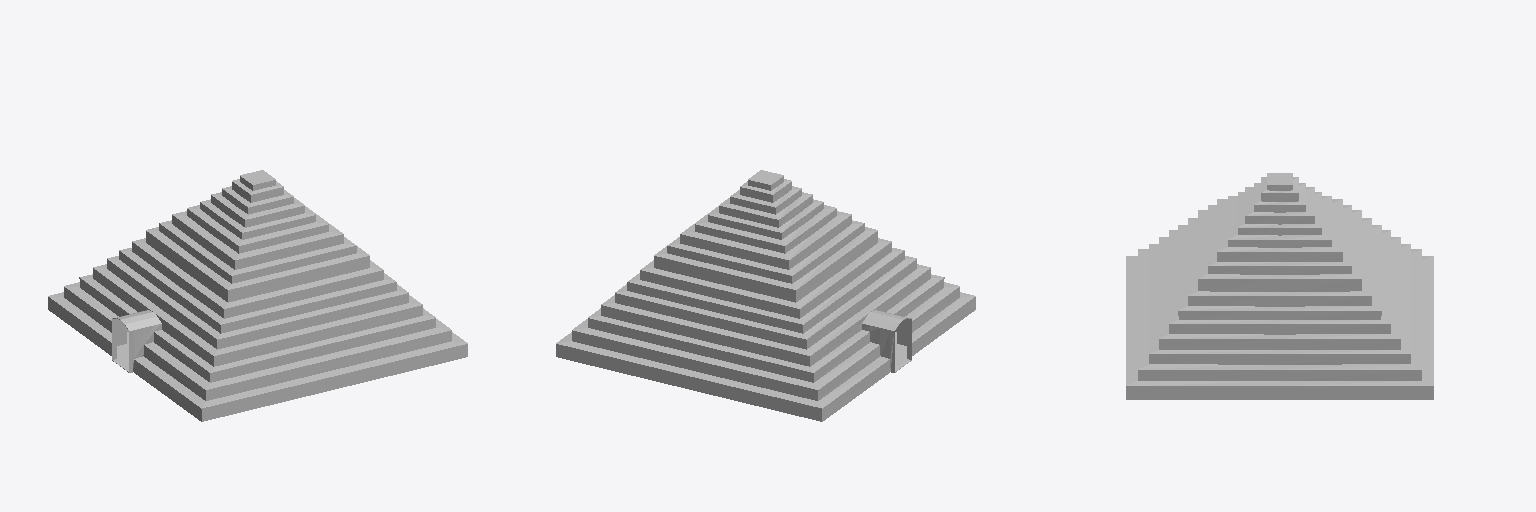
The model's file is pirimid.obj.
3 views of the same model, side by side, from view 1: azimuth 30°, elevation 25°; view 2: azimuth 150°, elevation 25°; view 3: azimuth 270°, elevation 25° (orthographic).
Visible parts, largest first — view 1: Cube; view 2: Cube; view 3: Cube.
Part boxes in pixels (left/top/right/bottom): Cube: left=48, top=170, right=467, bottom=421; Cube: left=556, top=170, right=975, bottom=421; Cube: left=1126, top=173, right=1433, bottom=399.
Bounding box in the file's own units: 20.35 × 11.21 × 20.06.